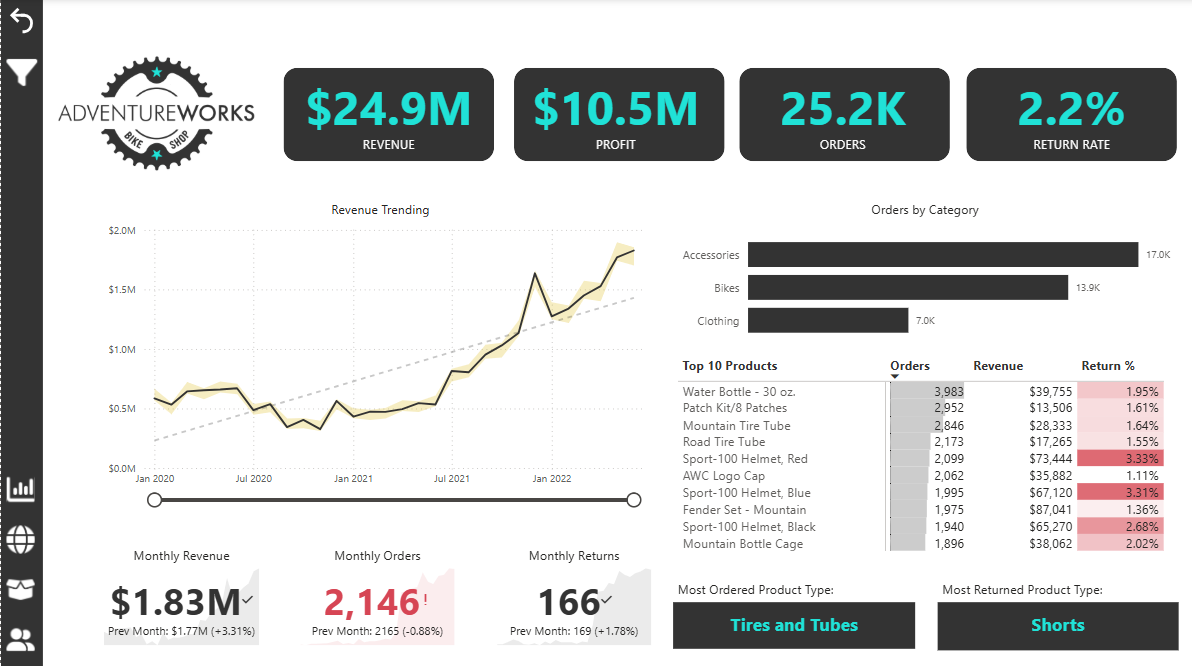

Layout of this report page (visuals, bound fields, positions):
{"tool":"powerbi","page":{"name":"Exec Dashboard","canvas":[1280,720],"ordinal":0},"visuals":[{"type":"card","fields":{"Values":["Measure Table.Total Revenue"]},"box":[281.4,47.1,267.1,150],"z":0,"group":"g2"},{"type":"image","title":"AW Logo","box":[33.3,60,268.3,128.3],"z":0},{"type":"shape","box":[301.6,73.3,225,100],"z":0,"group":"g1"},{"type":"group","id":"g1","title":"KPI Background","box":[301.6,73.3,955,100],"z":0,"group":"g3"},{"type":"actionButton","box":[2.8,506.5,45,38.2],"z":0,"group":"g4"},{"type":"shape","title":"Left Nav Background","box":[0,0,45,720],"z":1000},{"type":"group","id":"g2","title":"KPI Values","box":[281.4,47.1,995.7,150],"z":1000,"group":"g3"},{"type":"card","fields":{"Values":["Measure Table.Total Profit"]},"box":[524.3,47.1,267.1,150],"z":1000,"group":"g2"},{"type":"shape","box":[548.3,73.3,225,100],"z":1000,"group":"g1"},{"type":"actionButton","box":[2.8,559.7,45,38.2],"z":1000,"group":"g4"},{"type":"group","id":"g3","title":"KPIs","box":[281.4,47.1,995.7,150],"z":2000},{"type":"card","fields":{"Values":["Measure Table.Total Orders"]},"box":[767.1,47.1,267.1,150],"z":2000,"group":"g2"},{"type":"shape","box":[788.3,73.3,225,100],"z":2000,"group":"g1"},{"type":"actionButton","box":[2.8,612.8,45,38.2],"z":2000,"group":"g4"},{"type":"card","fields":{"Values":["Measure Table.Return Rate"]},"box":[1010,47.1,267.1,150],"z":3000,"group":"g2"},{"type":"shape","box":[1031.6,73.3,225,100],"z":3000,"group":"g1"},{"type":"lineChart","title":"Revenue Trending","fields":{"Category":["Calendar Lookup.Start of Month"],"Y":["Measure Table.Total Revenue"]},"box":[109,215.3,592.9,331.2],"z":3000},{"type":"actionButton","box":[2.8,666,45,38.2],"z":3000,"group":"g4"},{"type":"kpi","title":"Monthly Revenue","fields":{"Goal":["Measure Table.Previous Month Revenue"],"Indicator":["Measure Table.Total Revenue"],"TrendLine":["Calendar Lookup.Start of Month"]},"box":[105.7,585.7,175.7,110],"z":4000},{"type":"kpi","title":"Monthly Orders","fields":{"Goal":["Measure Table.Previous Month Orders"],"Indicator":["Measure Table.Total Orders"],"TrendLine":["Calendar Lookup.Start of Month"]},"box":[315.7,585.7,174.3,110],"z":5000},{"type":"kpi","title":"Monthly Returns","fields":{"Goal":["Measure Table.Previous Month Returns"],"Indicator":["Measure Table.Total Returns"],"TrendLine":["Calendar Lookup.Start of Month"]},"box":[524.3,585.7,174.3,110],"z":6000},{"type":"clusteredBarChart","title":"Orders by Category","fields":{"Category":["Product Categories Lookup.CategoryName"],"Y":["Measure Table.Total Orders"]},"box":[718.3,215.3,538.3,162.2],"z":7000},{"type":"pivotTable","fields":{"Rows":["Product Lookup.ProductName"],"Values":["Measure Table.Total Orders","Measure Table.Total Revenue","Measure Table.Return Rate"]},"box":[718.6,378.6,538.6,220],"z":8000},{"type":"card","fields":{"Values":["Min(Product Subcategories Lookup.SubcategoryName)"]},"box":[718.6,645.7,258.6,50],"z":9000},{"type":"textbox","box":[718.6,617.1,231.4,28.6],"z":10000},{"type":"card","fields":{"Values":["Min(Product Subcategories Lookup.SubcategoryName)"]},"box":[1000,644.3,257.1,51.4],"z":11000},{"type":"textbox","box":[1000,617.1,231.4,28.6],"z":12000},{"type":"actionButton","box":[4.1,0,36.8,47.7],"z":13000},{"type":"group","id":"g4","title":"Navigation Buttons","box":[2.8,506.5,45,197.6],"z":14000},{"type":"actionButton","box":[2.7,60,42.3,40.9],"z":15000}]}

Visuals, with their boxes on the page's 1280x720 design canvas (x1, y1, x2, y2). These are canvas units, not pixel positions in the 1192x666 screenshot, which may show the page scaled, cropped or inside an application window:
card - Measure Table.Total Revenue: (x1=281, y1=47, x2=548, y2=197)
"AW Logo" image: (x1=33, y1=60, x2=302, y2=188)
shape: (x1=302, y1=73, x2=527, y2=173)
"KPI Background" group: (x1=302, y1=73, x2=1257, y2=173)
actionButton: (x1=3, y1=506, x2=48, y2=545)
"Left Nav Background" shape: (x1=0, y1=0, x2=45, y2=720)
"KPI Values" group: (x1=281, y1=47, x2=1277, y2=197)
card - Measure Table.Total Profit: (x1=524, y1=47, x2=791, y2=197)
shape: (x1=548, y1=73, x2=773, y2=173)
actionButton: (x1=3, y1=560, x2=48, y2=598)
"KPIs" group: (x1=281, y1=47, x2=1277, y2=197)
card - Measure Table.Total Orders: (x1=767, y1=47, x2=1034, y2=197)
shape: (x1=788, y1=73, x2=1013, y2=173)
actionButton: (x1=3, y1=613, x2=48, y2=651)
card - Measure Table.Return Rate: (x1=1010, y1=47, x2=1277, y2=197)
shape: (x1=1032, y1=73, x2=1257, y2=173)
"Revenue Trending" lineChart: (x1=109, y1=215, x2=702, y2=546)
actionButton: (x1=3, y1=666, x2=48, y2=704)
"Monthly Revenue" kpi: (x1=106, y1=586, x2=281, y2=696)
"Monthly Orders" kpi: (x1=316, y1=586, x2=490, y2=696)
"Monthly Returns" kpi: (x1=524, y1=586, x2=699, y2=696)
"Orders by Category" clusteredBarChart: (x1=718, y1=215, x2=1257, y2=378)
pivotTable - Product Lookup.ProductName x Measure Table.Total Orders: (x1=719, y1=379, x2=1257, y2=599)
card - Min(Product Subcategories Lookup.SubcategoryName): (x1=719, y1=646, x2=977, y2=696)
textbox: (x1=719, y1=617, x2=950, y2=646)
card - Min(Product Subcategories Lookup.SubcategoryName): (x1=1000, y1=644, x2=1257, y2=696)
textbox: (x1=1000, y1=617, x2=1231, y2=646)
actionButton: (x1=4, y1=0, x2=41, y2=48)
"Navigation Buttons" group: (x1=3, y1=506, x2=48, y2=704)
actionButton: (x1=3, y1=60, x2=45, y2=101)
